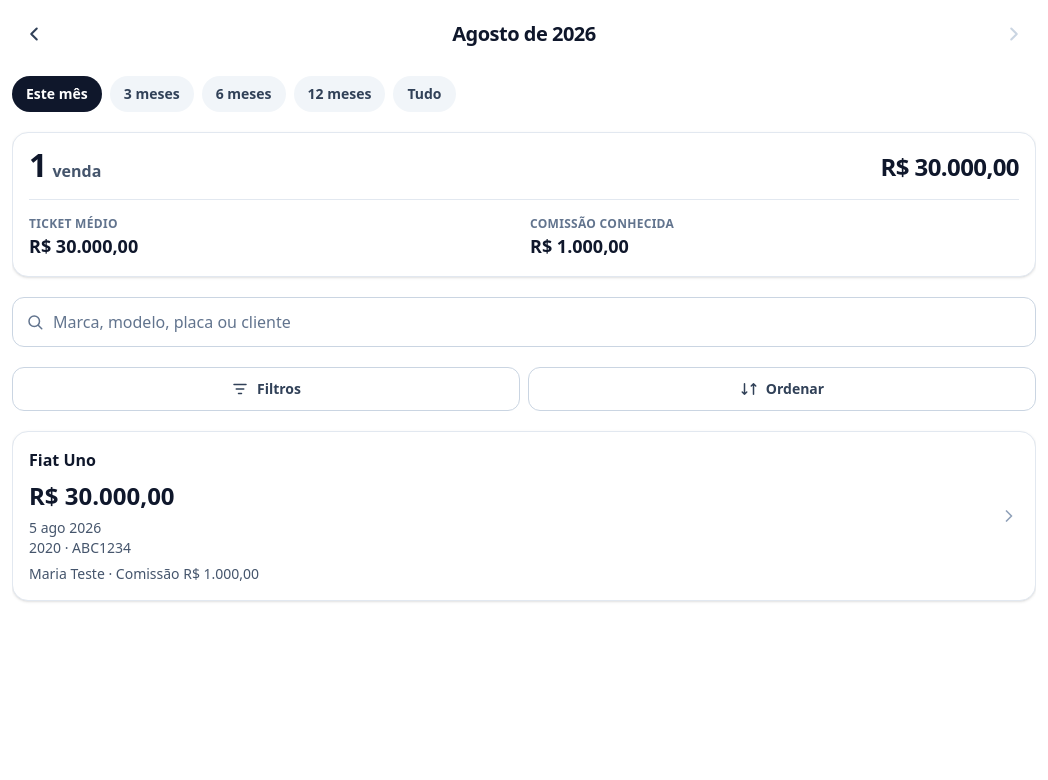
Test case: SoldVehiclesView › navegação de mês › steps to the previous month and filters to it
Expected: the text "Fiat Uno" is shown, [29, 448, 96, 472]
Click the button named "Mês anterior" at (34, 34), box [12, 12, 56, 56]
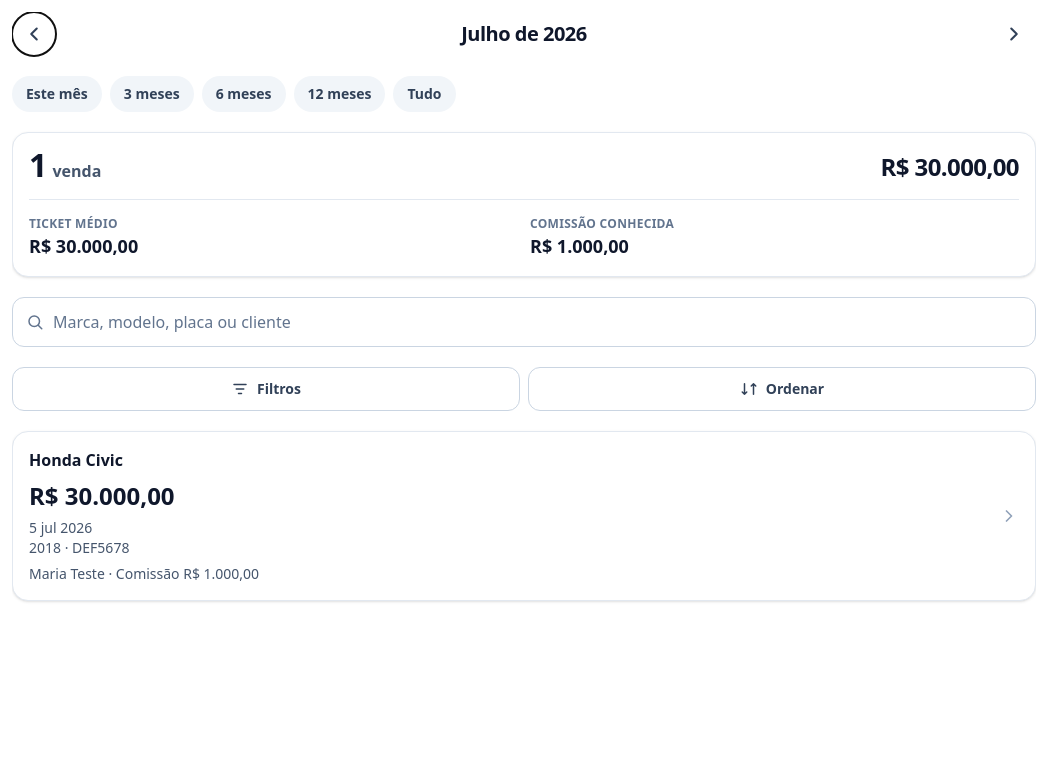
Now the text "Julho de 2026" is shown, box [461, 20, 587, 47]
Now the text "Honda Civic" is shown, box [29, 448, 123, 472]
Now the button "Fiat Uno" is gone
